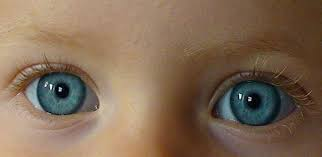pupil: (231, 80, 280, 125), (37, 73, 84, 115)
